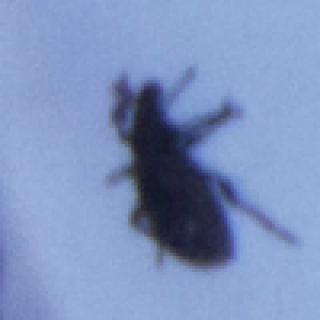bvw: (106, 66, 296, 270)
